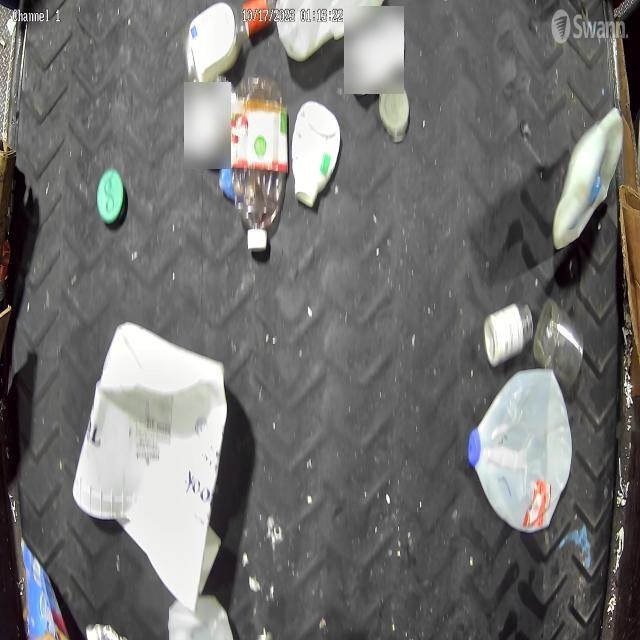milk_jug: (468, 368, 572, 534), (554, 106, 624, 246)
plastic_bottle: (232, 74, 289, 253)
